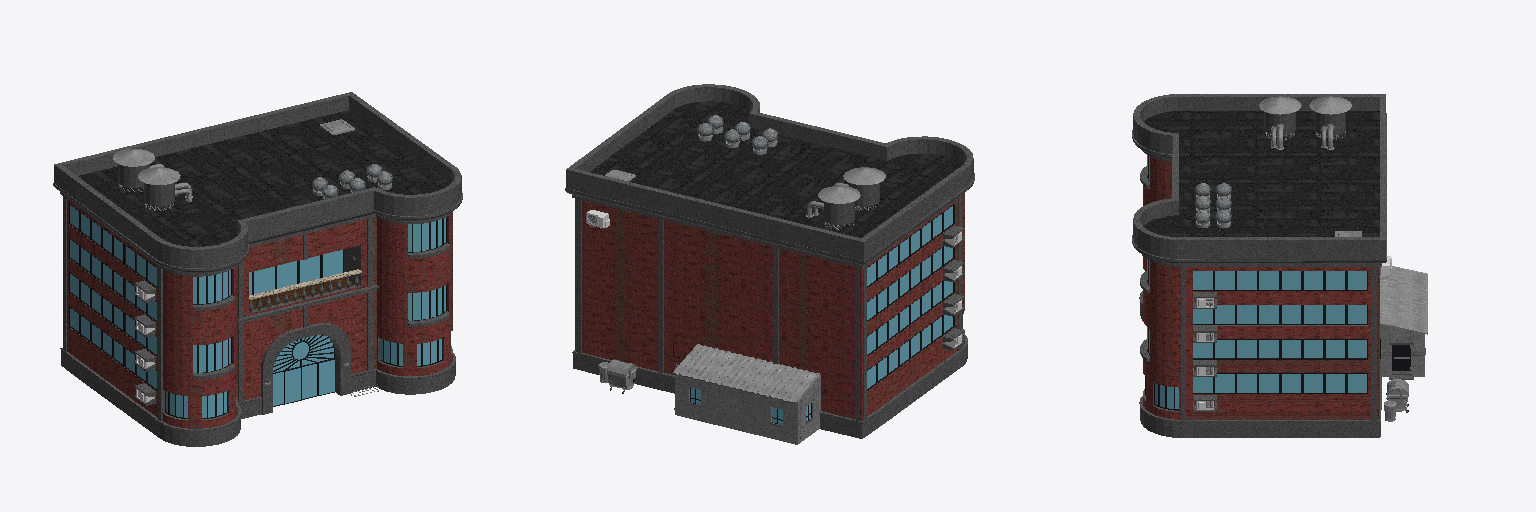
The picture shows the model from 3 angles: view 1: azimuth 30°, elevation 25°; view 2: azimuth 150°, elevation 25°; view 3: azimuth 270°, elevation 25°; orthographic projection.
Parts seen in each view (by area): view 1: Building_Medium_DownTown3_Building_Medium_DownTown3_Mesh; view 2: Building_Medium_DownTown3_Building_Medium_DownTown3_Mesh; view 3: Building_Medium_DownTown3_Building_Medium_DownTown3_Mesh.
Part boxes in pixels (bbox=[...]): Building_Medium_DownTown3_Building_Medium_DownTown3_Mesh: bbox=[53, 92, 462, 446]; Building_Medium_DownTown3_Building_Medium_DownTown3_Mesh: bbox=[565, 84, 974, 444]; Building_Medium_DownTown3_Building_Medium_DownTown3_Mesh: bbox=[1132, 94, 1427, 437].
Size of the model in its own units: 22.54 by 15.6 by 18.85.
Materials: 13 (11 with a texture image).